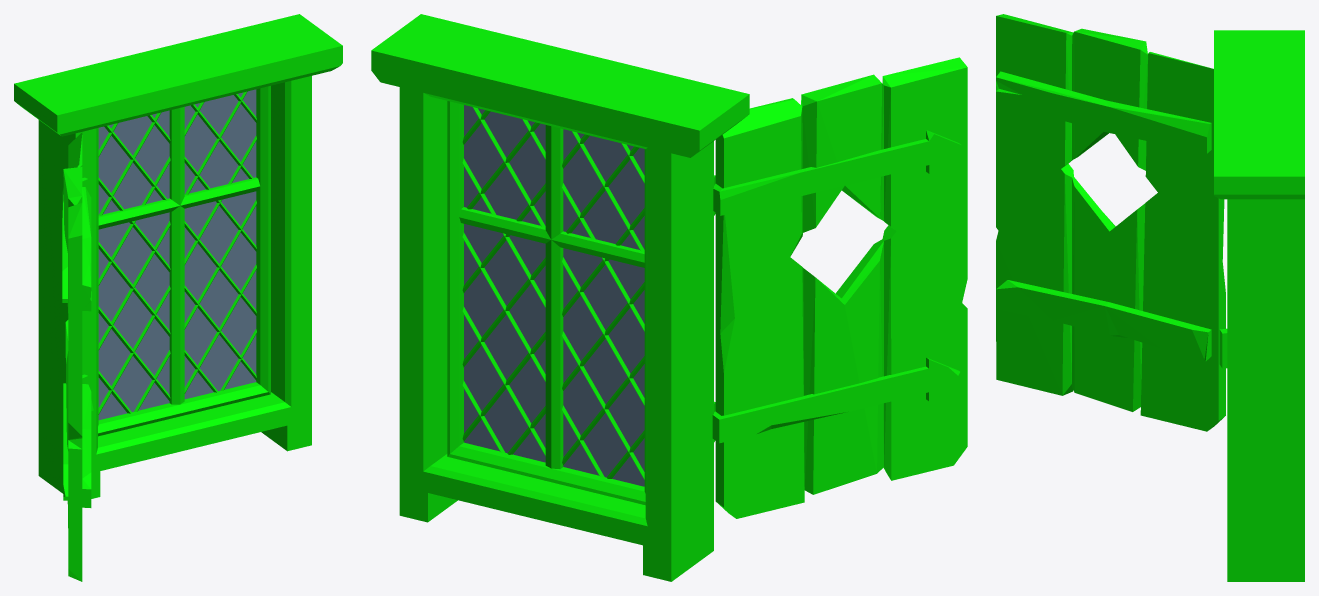
File: SM_Window_A_Fantasy.fbx
3 renders of one model, left to right at view 1: azimuth 30°, elevation 25°; view 2: azimuth 150°, elevation 25°; view 3: azimuth 270°, elevation 25°, orthographic. The views are drawn at different scales.
Parts seen in each view (by area): view 1: window-a-frame-fantasy, window-a-window-fantasy, window-shutter-a-fantasy; view 2: window-shutter-a-fantasy, window-a-frame-fantasy, window-a-window-fantasy; view 3: window-shutter-a-fantasy, window-a-frame-fantasy.
Boxes of the visible parts, x1=… form: window-a-frame-fantasy: x1=14, y1=14, x2=342, y2=498; window-a-window-fantasy: x1=98, y1=86, x2=270, y2=436; window-shutter-a-fantasy: x1=62, y1=132, x2=93, y2=581; window-shutter-a-fantasy: x1=712, y1=57, x2=967, y2=518; window-a-frame-fantasy: x1=371, y1=14, x2=749, y2=581; window-a-window-fantasy: x1=447, y1=101, x2=645, y2=505; window-shutter-a-fantasy: x1=996, y1=14, x2=1227, y2=431; window-a-frame-fantasy: x1=1214, y1=30, x2=1304, y2=581.
Bounding box in the file's own units: 1.52 × 1.55 × 1.04.
